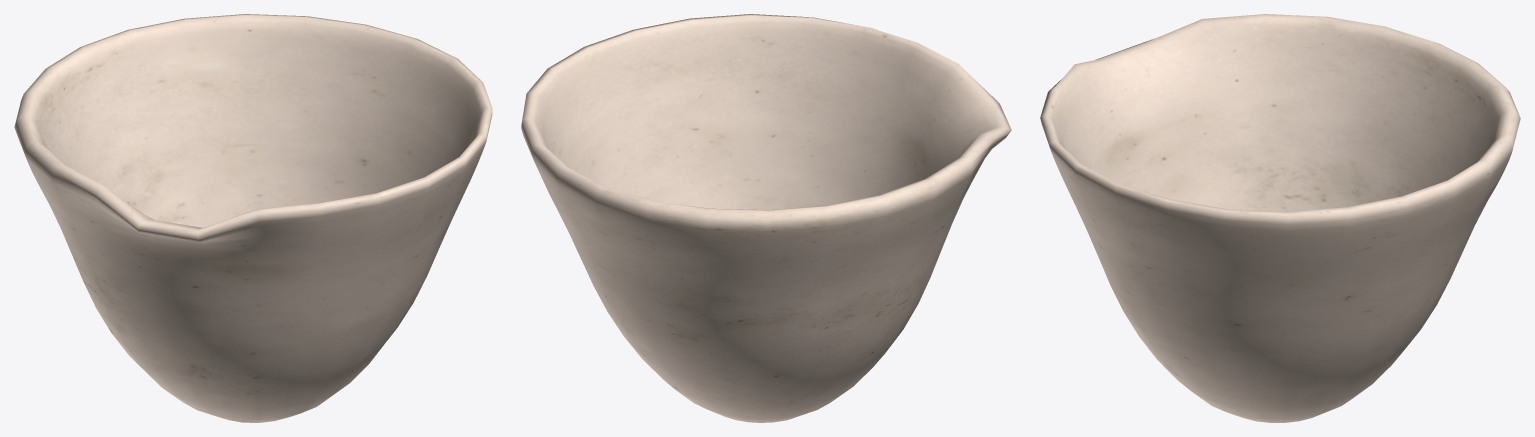
The picture shows the model from 3 angles, left to right: view 1: azimuth 30°, elevation 25°; view 2: azimuth 150°, elevation 25°; view 3: azimuth 270°, elevation 25°; orthographic projection.
Parts seen in each view (by area): view 1: 301, Object001; view 2: 301, Object001; view 3: 301.
Boxes of the visible parts, x1=… form: 301: x1=14, y1=14, x2=492, y2=422; Object001: x1=225, y1=89, x2=455, y2=173; 301: x1=521, y1=14, x2=1011, y2=422; Object001: x1=567, y1=80, x2=879, y2=161; 301: x1=1040, y1=14, x2=1520, y2=422.
Bounding box in the file's own units: 139 × 96.47 × 138.
Materials: 1 (1 with a texture image).
